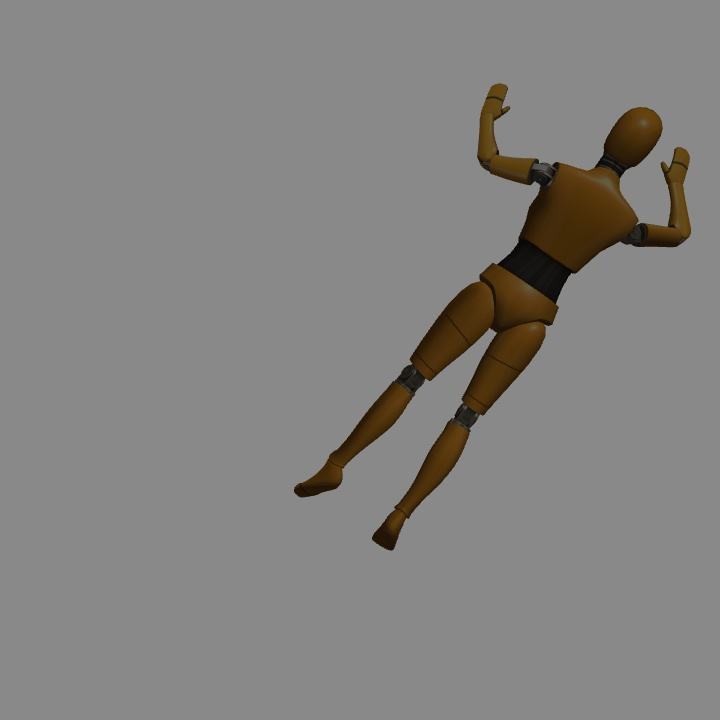victim: (302, 107, 690, 546)
